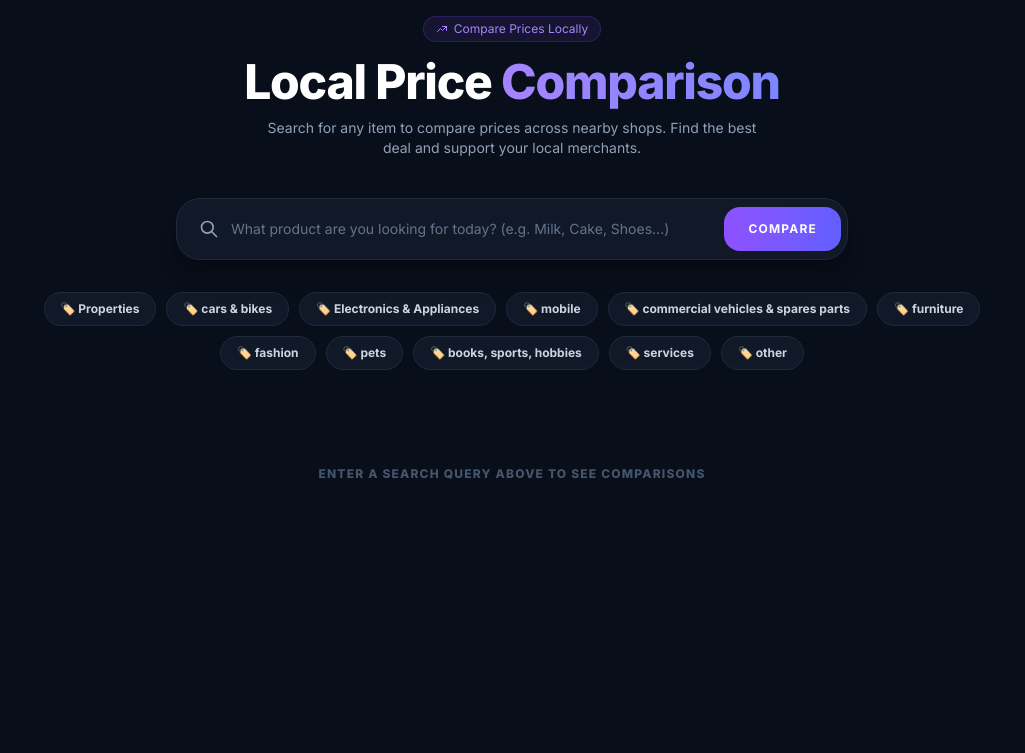
Scenario: PriceComparison Page › handles empty results search view
Replace the text in the field with placeholder "What product are you looking for" with "NonExistent" at x=472, y=229, box [219,205,724,253]
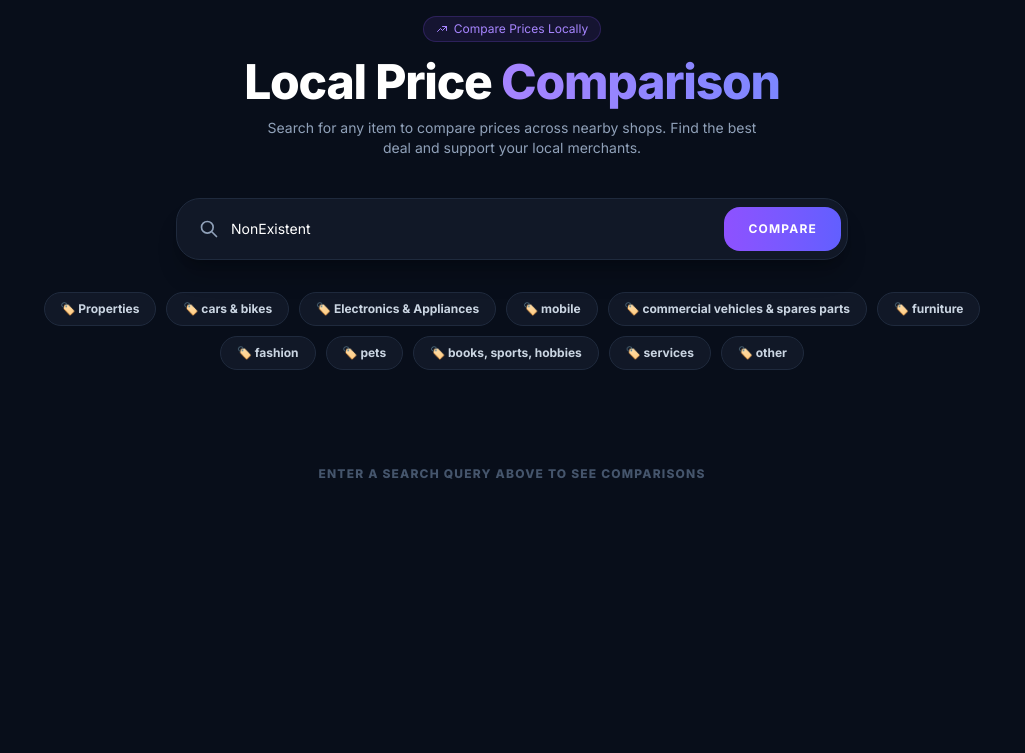
Click the button "Compare" at x=783, y=229, box [724,207,841,251]
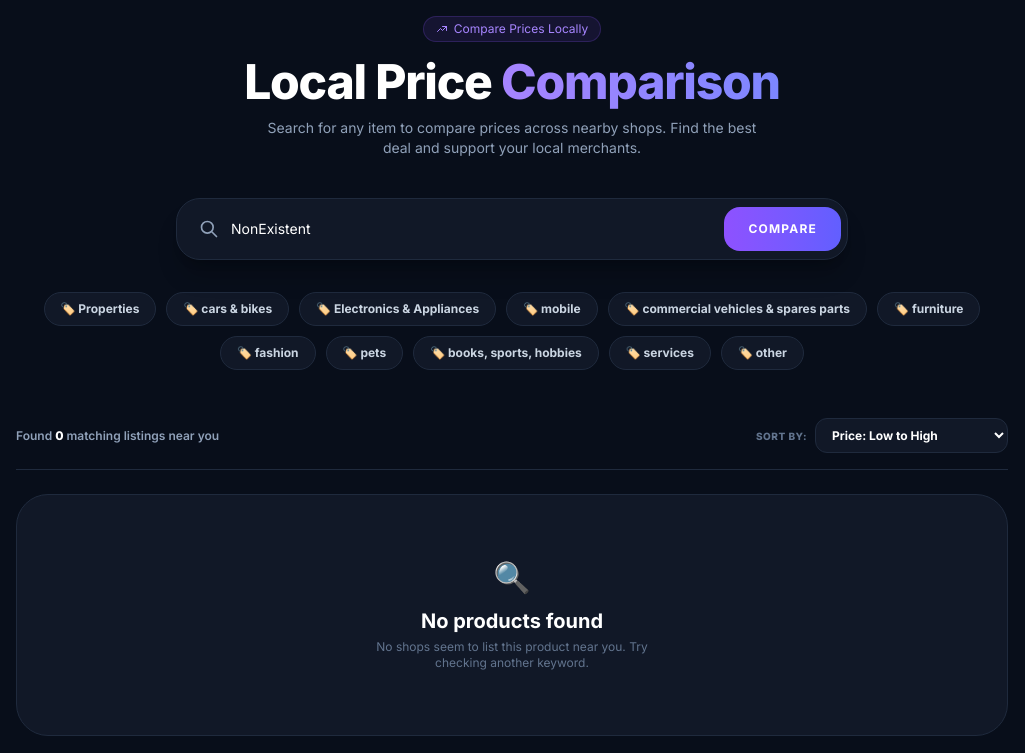
Check: the heading "No products found" is shown, box [421,609,603,633]
